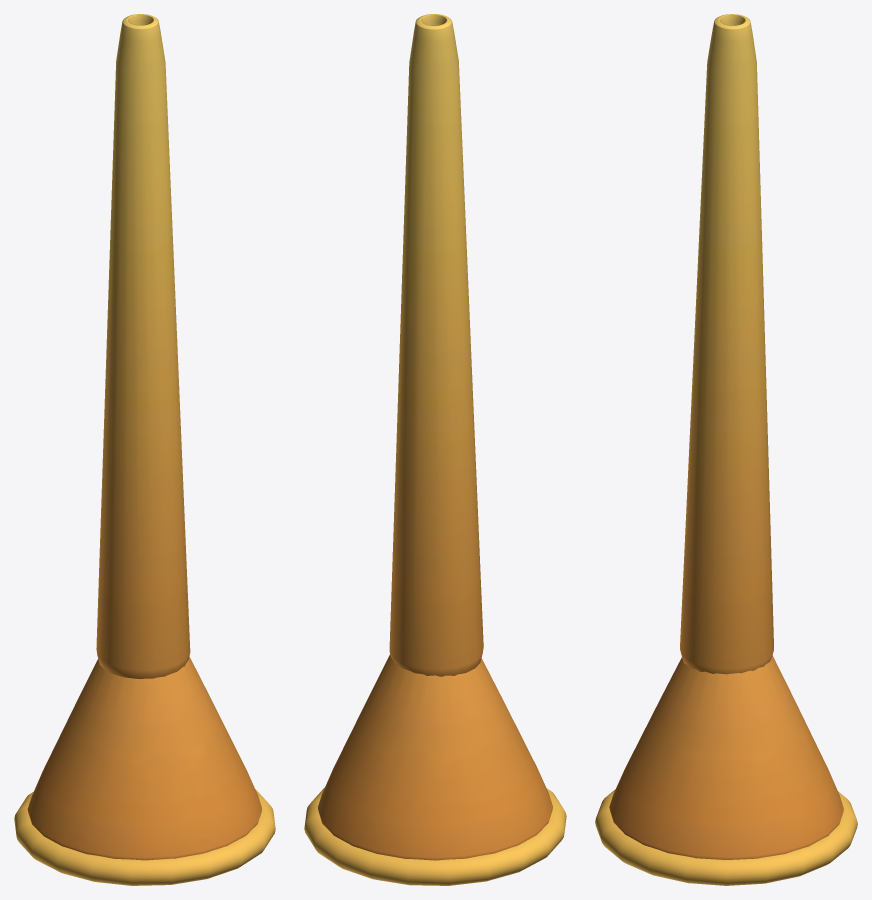
File: Oboe.fbx
The picture shows the model from 3 angles, left to right: view 1: azimuth 30°, elevation 25°; view 2: azimuth 150°, elevation 25°; view 3: azimuth 270°, elevation 25°; orthographic projection.
Parts seen in each view (by area): view 1: oboe; view 2: oboe; view 3: oboe.
Boxes of the visible parts, box(x1,y1,x2,y2) form: oboe: box(14, 14, 275, 885); oboe: box(304, 14, 566, 885); oboe: box(595, 14, 857, 885).
Size of the model in its own units: 0.199 by 0.6814 by 0.199.
Materials: 1 (1 with a texture image).
